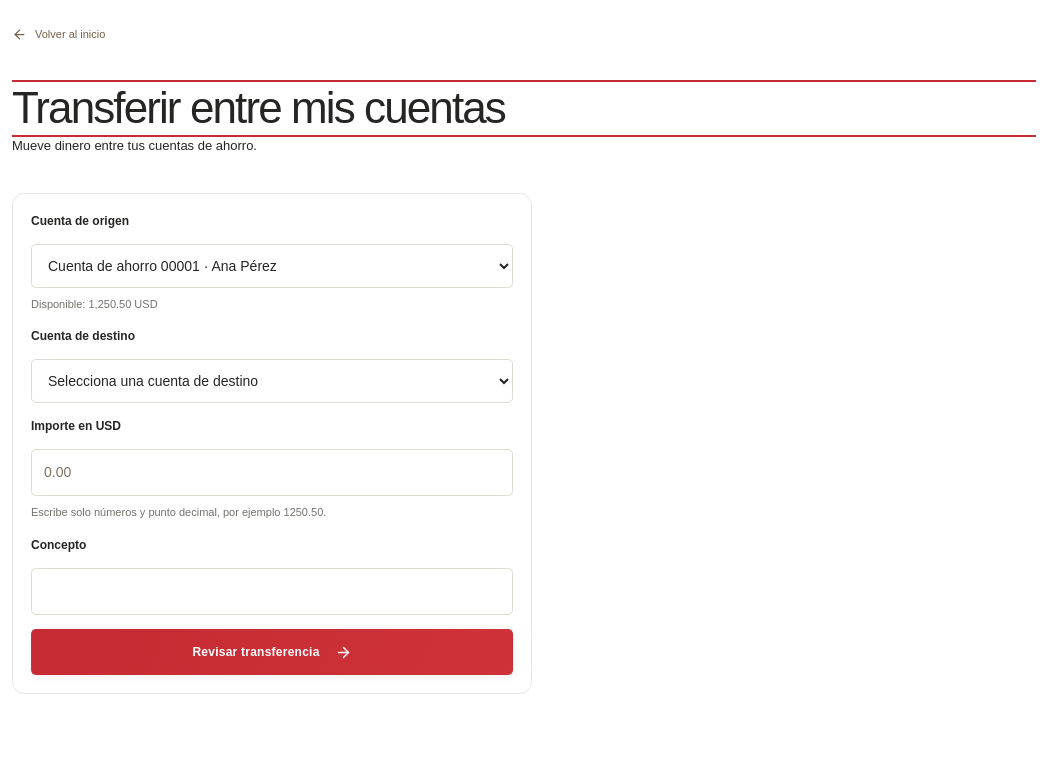
Test: CustomerTransfer: the form › refuses no destination before anything is sent, and puts the focus on the field
Check: the dropdown labelled "Cuenta de destino" is shown, box [31, 360, 513, 404]
Type "10" into the field labelled "Importe en USD" at (272,473), box [31, 450, 513, 496]
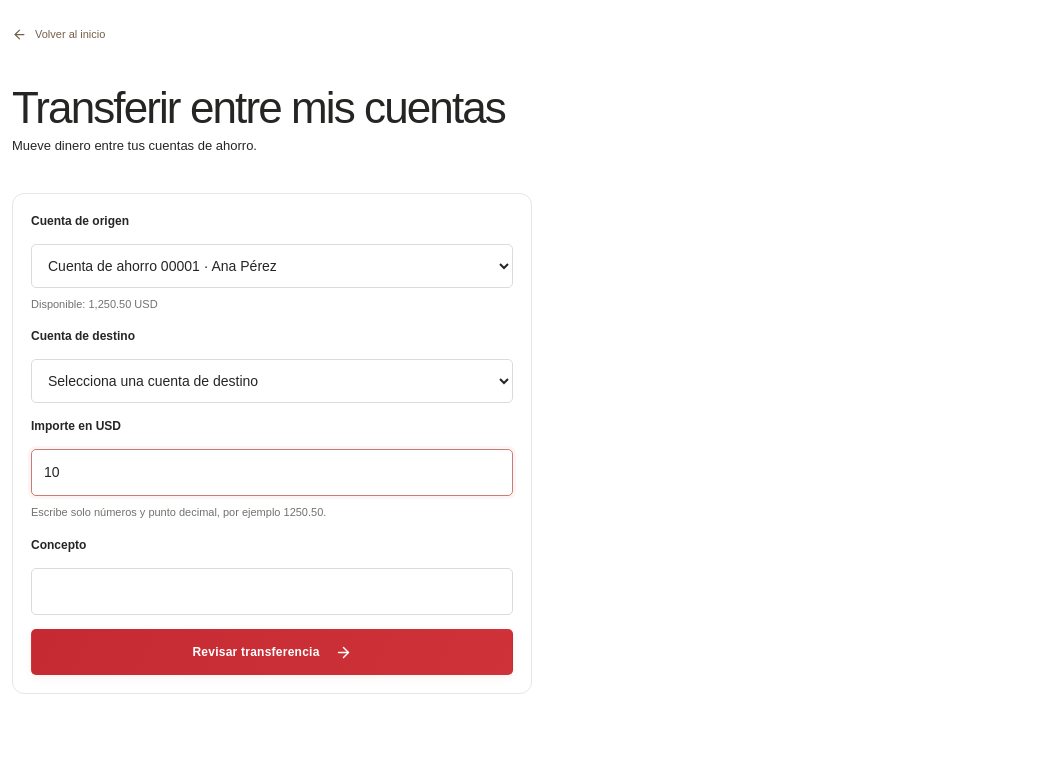
Type "Renta" into the field labelled "Concepto" at (272,592), box [31, 568, 513, 615]
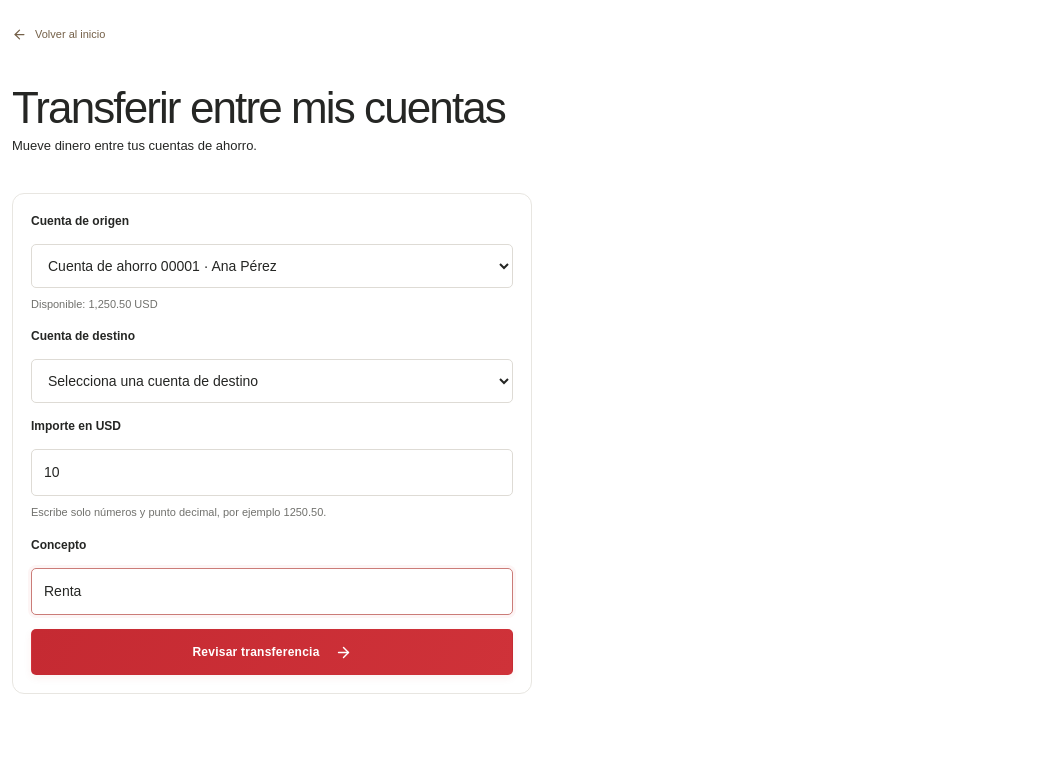
Click the button "Revisar transferencia" at (272,652), box [31, 629, 513, 675]
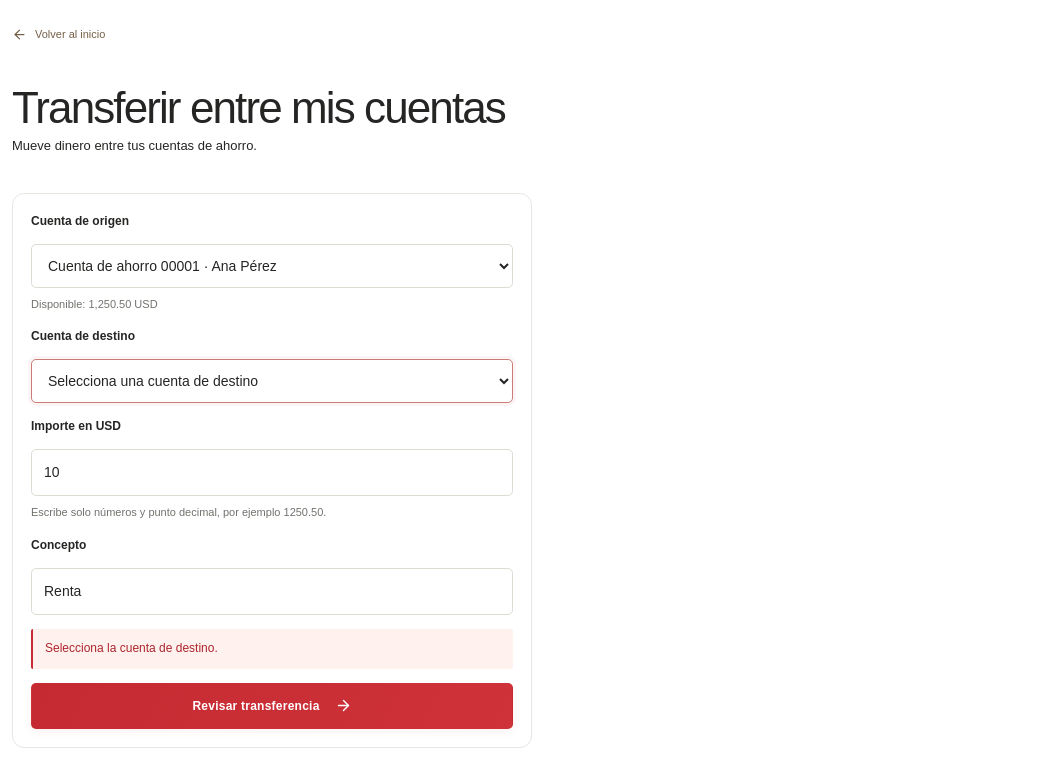
Check: the message reads "Selecciona la cuenta de destino.", box [45, 641, 218, 655]
